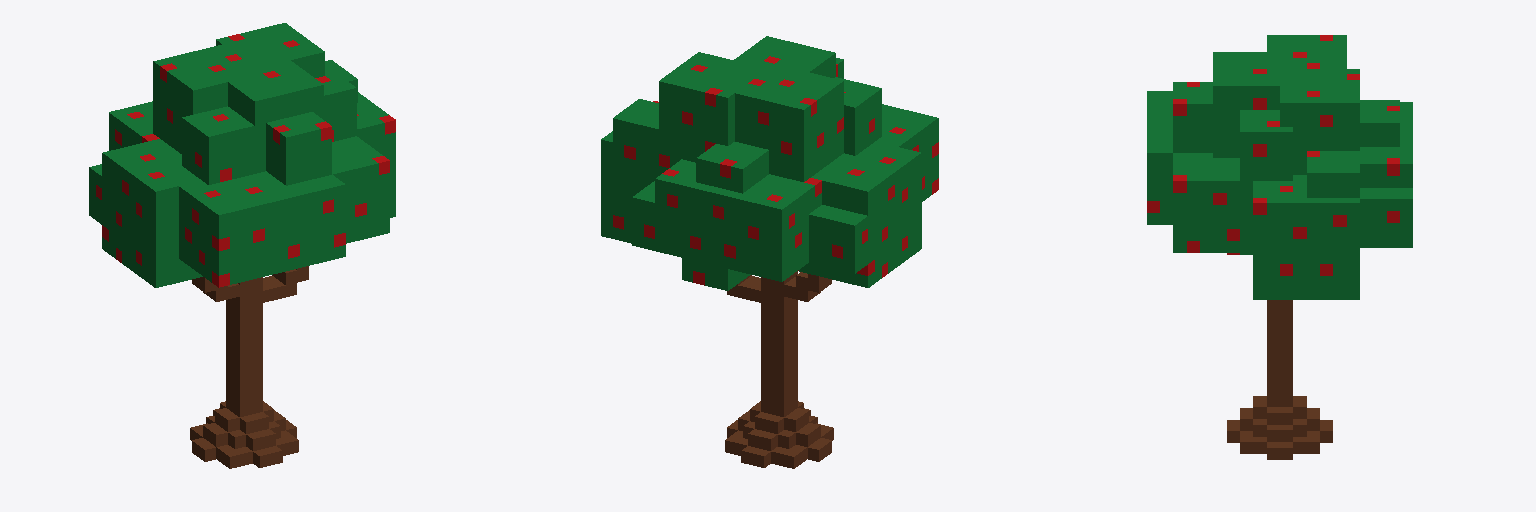
3 renders of one model, left to right at view 1: azimuth 30°, elevation 25°; view 2: azimuth 150°, elevation 25°; view 3: azimuth 270°, elevation 25°, orthographic.
Visible parts, largest first — view 1: object 1; view 2: object 1; view 3: object 1.
Part boxes in pixels (left/top/right/bottom): object 1: left=89, top=23, right=395, bottom=468; object 1: left=601, top=36, right=938, bottom=468; object 1: left=1147, top=35, right=1412, bottom=459.
Size of the model in its own units: 2.2 by 3.1 by 2.
1 materials, 1 textured.